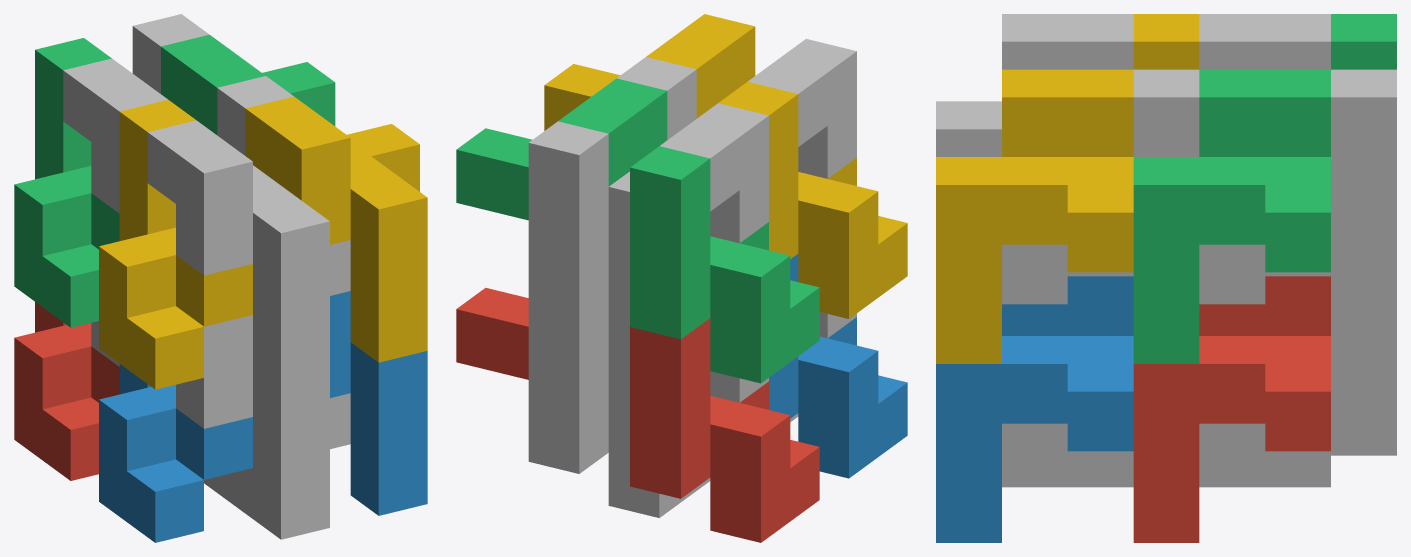
The model's file is tiling.obj.
3 renders of one model, left to right at view 1: azimuth 30°, elevation 25°; view 2: azimuth 150°, elevation 25°; view 3: azimuth 270°, elevation 25°, orthographic. The views are drawn at different scales.
Parts seen in each view (by area): view 1: copy_2_domain_8, copy_2_domain_4, copy_1_domain_4, copy_1_domain_3, copy_2_domain_2, copy_1_domain_2, copy_2_domain_6, copy_1_domain_1, copy_2_domain_7, copy_2_domain_3, copy_1_domain_8, copy_1_domain_7 (+1 smaller); view 2: copy_1_domain_3, copy_1_domain_1, copy_1_domain_4, copy_1_domain_7, copy_1_domain_5, copy_1_domain_2, copy_2_domain_7, copy_2_domain_3, copy_2_domain_4, copy_2_domain_8, copy_2_domain_5, copy_1_domain_8 (+2 smaller); view 3: copy_2_domain_7, copy_2_domain_8, copy_2_domain_5, copy_2_domain_6, copy_1_domain_5, copy_1_domain_7, copy_2_domain_4, copy_1_domain_8, copy_2_domain_3, copy_1_domain_6, copy_1_domain_4, copy_1_domain_3.
Boxes of the visible parts, bbox=[...] form: copy_2_domain_8: bbox=[245, 96, 427, 362]; copy_2_domain_4: bbox=[147, 120, 329, 386]; copy_1_domain_4: bbox=[99, 99, 252, 389]; copy_1_domain_3: bbox=[14, 38, 119, 327]; copy_2_domain_2: bbox=[176, 315, 329, 539]; copy_1_domain_2: bbox=[99, 364, 252, 542]; copy_2_domain_6: bbox=[330, 291, 427, 515]; copy_1_domain_1: bbox=[14, 302, 119, 480]; copy_2_domain_7: bbox=[161, 34, 335, 134]; copy_2_domain_3: bbox=[63, 58, 167, 213]; copy_1_domain_8: bbox=[217, 76, 350, 295]; copy_1_domain_7: bbox=[132, 14, 208, 93]; copy_1_domain_3: bbox=[630, 146, 819, 383]; copy_1_domain_1: bbox=[630, 318, 819, 542]; copy_1_domain_4: bbox=[718, 81, 907, 318]; copy_1_domain_7: bbox=[528, 121, 629, 351]; copy_1_domain_5: bbox=[528, 293, 710, 517]; copy_1_domain_2: bbox=[769, 254, 907, 478]; copy_2_domain_7: bbox=[456, 78, 667, 220]; copy_2_domain_3: bbox=[608, 103, 768, 244]; copy_2_domain_4: bbox=[748, 39, 856, 178]; copy_2_domain_8: bbox=[544, 14, 755, 130]; copy_2_domain_5: bbox=[456, 287, 528, 379]; copy_1_domain_8: bbox=[617, 57, 696, 139]; copy_2_domain_7: bbox=[1133, 69, 1330, 363]; copy_2_domain_8: bbox=[936, 69, 1133, 363]; copy_2_domain_5: bbox=[1133, 276, 1330, 542]; copy_2_domain_6: bbox=[936, 276, 1133, 542]; copy_1_domain_5: bbox=[1199, 276, 1396, 487]; copy_1_domain_7: bbox=[1199, 69, 1396, 304]; copy_2_domain_4: bbox=[936, 14, 1133, 156]; copy_1_domain_8: bbox=[1002, 69, 1199, 304]; copy_2_domain_3: bbox=[1199, 14, 1330, 69]; copy_1_domain_6: bbox=[1002, 423, 1133, 487]; copy_1_domain_4: bbox=[1133, 14, 1199, 69]; copy_1_domain_3: bbox=[1331, 14, 1396, 69].
Bounding box in the file's own units: 6 × 7 × 7.
